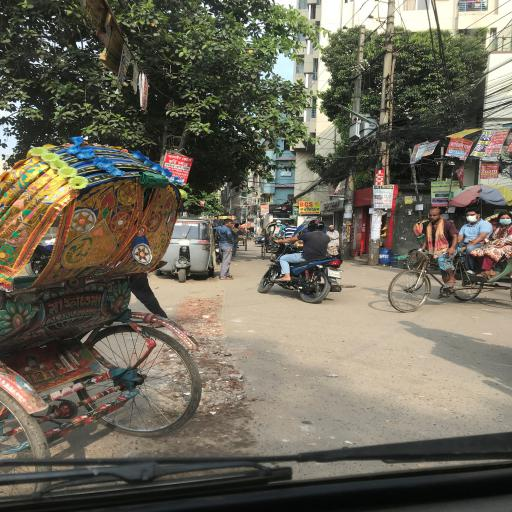car: (254, 237, 266, 246)
motorbike: (258, 243, 344, 306)
rickshaw: (2, 142, 156, 470), (387, 207, 512, 317), (265, 222, 286, 245)
three wheelers (CNG): (155, 219, 219, 285)
